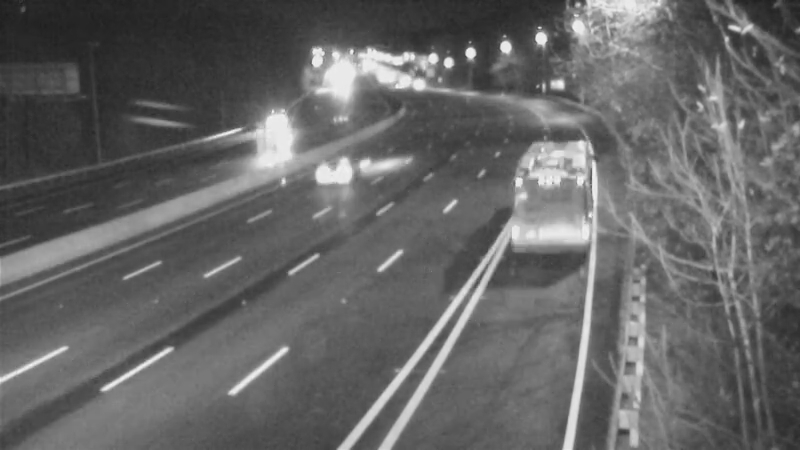vehicle: (501, 175, 581, 255), (303, 128, 383, 208), (260, 120, 310, 170), (258, 94, 308, 144)
